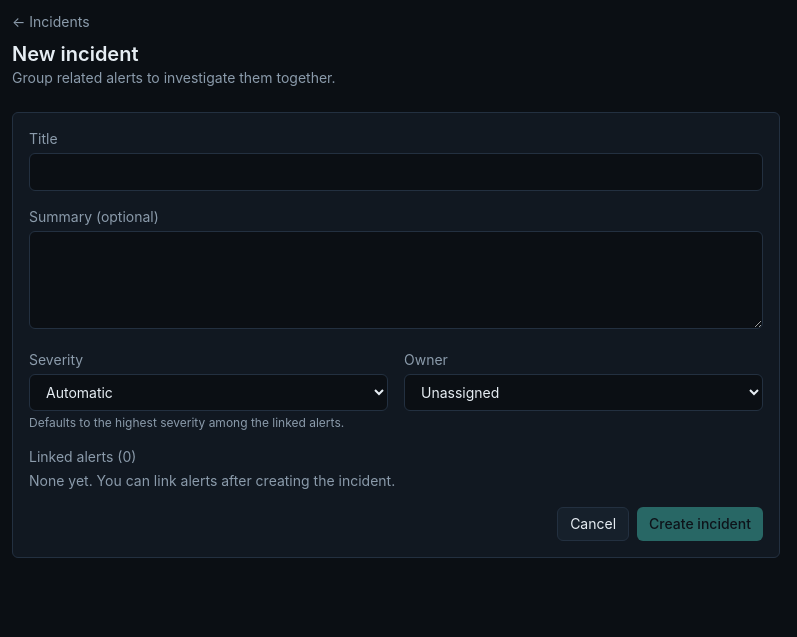
IncidentNewPage › shows server validation errors
This screenshot has width=797, height=637.
Type "x" into the field labelled "Title" at (396,172), box [29,153,763,191]
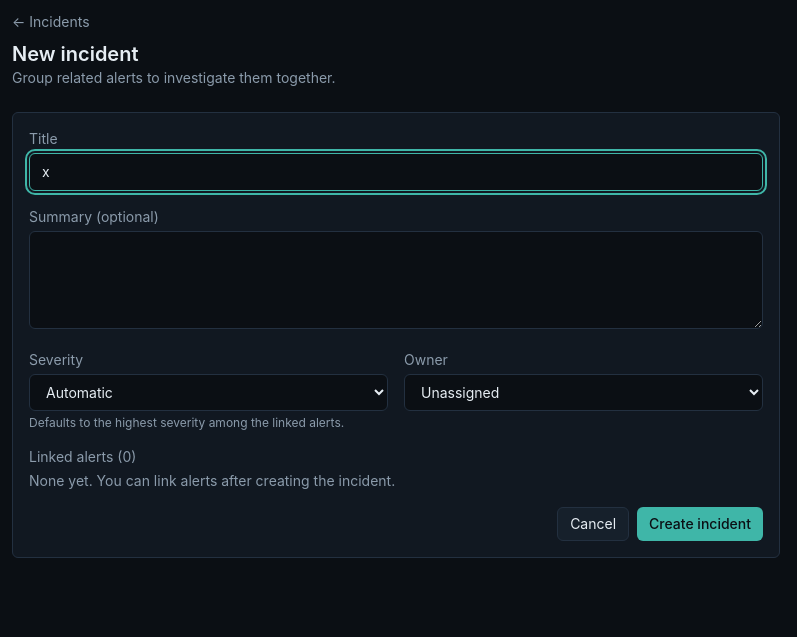
Click the button "Create incident" at (700,524), box [637,507,763,541]
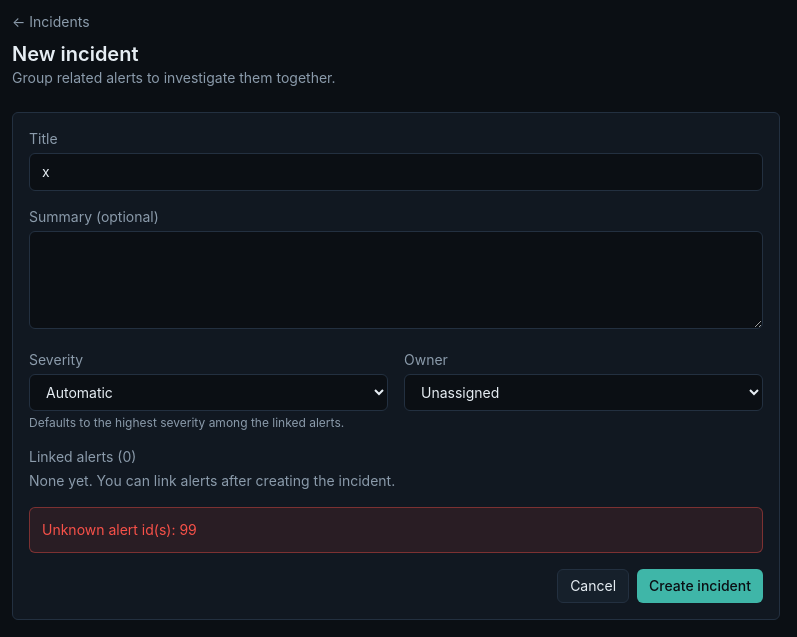
Check: the message reads "Unknown alert id(s): 99", box [42,521,197,538]
